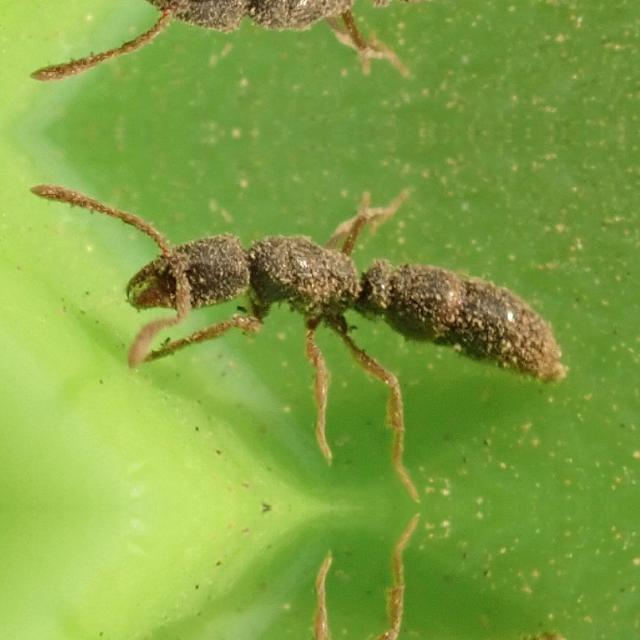Ponera: (47, 153, 618, 454), (47, 0, 618, 110), (47, 560, 618, 640)
